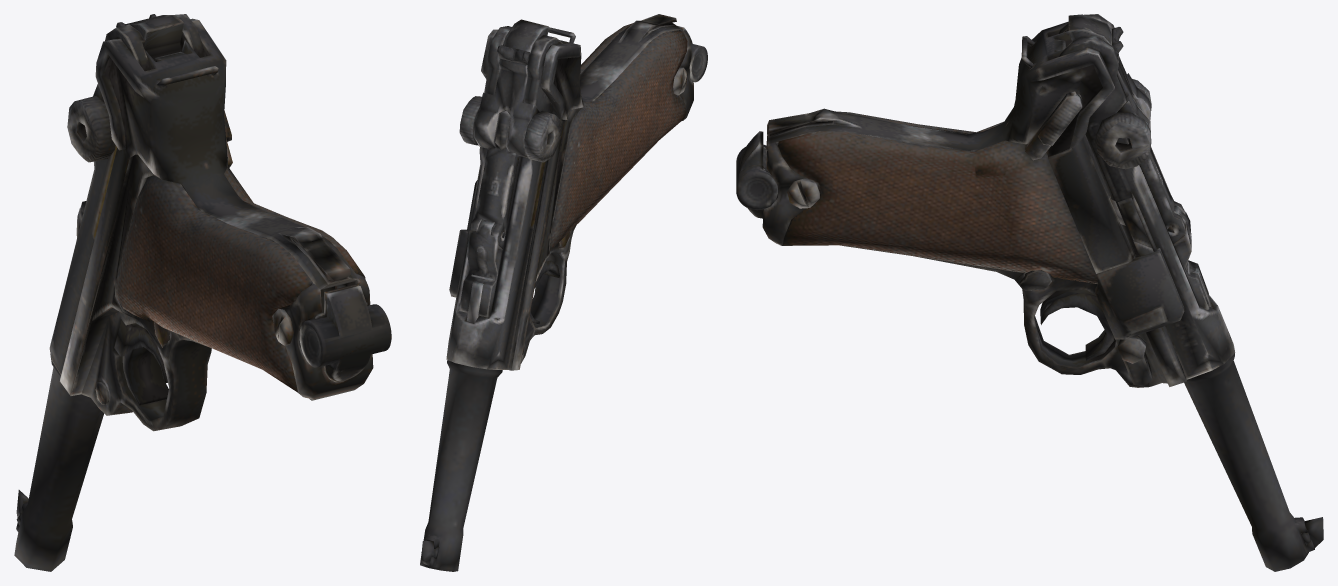
File: LugerMelee.fbx
3 renders of one model, left to right at view 1: azimuth 30°, elevation 25°; view 2: azimuth 150°, elevation 25°; view 3: azimuth 270°, elevation 25°, orthographic. The views are drawn at different scales.
Parts seen in each view (by area): view 1: Luger; view 2: Luger; view 3: Luger.
Boxes of the visible parts, x1=… form: Luger: x1=14, y1=14, x2=391, y2=571; Luger: x1=420, y1=14, x2=707, y2=571; Luger: x1=736, y1=14, x2=1323, y2=571.
Size of the model in its own units: 0.0283 by 0.164 by 0.1601.
